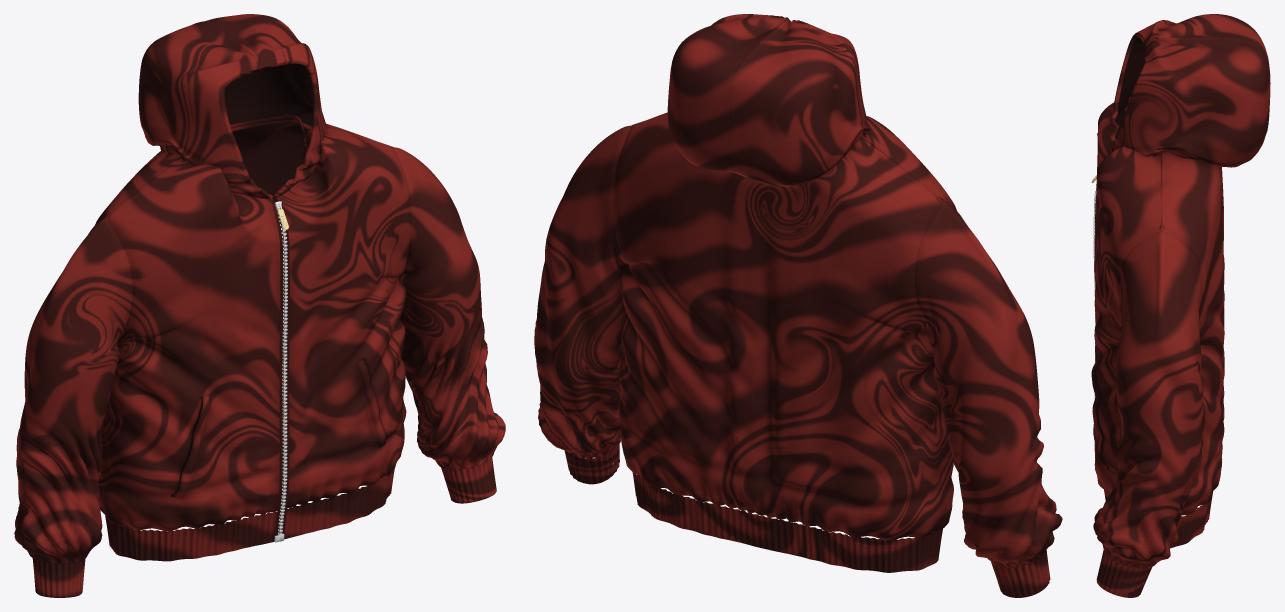
Rendered from ressac-v3-crimson-flow.glb.
The picture shows the model from 3 angles, left to right: view 1: azimuth 30°, elevation 25°; view 2: azimuth 150°, elevation 25°; view 3: azimuth 270°, elevation 25°; orthographic projection. The views are drawn at different scales.
Visible parts, largest first — view 1: Panel_Right, Panel_Left, Sleeve_Right, Sleeve_Left, Hood_Outer, Hem, Body_Back, Hood_Inner, Zip_Teeth_Right, Zip_Teeth_Left, Cuff_Right, Cuff_Left (+2 smaller); view 2: Body_Back, Sleeve_Right, Hood_Outer, Sleeve_Left, Hem, Panel_Right, Cuff_Right, Cuff_Left; view 3: Sleeve_Left, Hood_Outer, Panel_Left, Body_Back, Cuff_Left, Hood_Inner, Hem, Panel_Right, Pocket_Left.
Part boxes in pixels (x1,y1,x2,y2): Panel_Right: (103, 159, 280, 531); Panel_Left: (275, 123, 410, 508); Sleeve_Right: (14, 217, 132, 563); Sleeve_Left: (394, 147, 505, 470); Hood_Outer: (138, 14, 327, 198); Hem: (105, 469, 394, 561); Body_Back: (95, 114, 394, 515); Hood_Inner: (224, 63, 313, 186); Zip_Teeth_Right: (272, 201, 286, 542); Zip_Teeth_Left: (277, 199, 289, 541); Cuff_Right: (32, 558, 85, 597); Cuff_Left: (441, 457, 496, 503); Body_Back: (614, 113, 945, 540); Sleeve_Right: (915, 201, 1062, 567); Hood_Outer: (667, 14, 869, 186); Sleeve_Left: (534, 125, 630, 458); Hem: (632, 472, 942, 572); Panel_Right: (861, 116, 956, 529); Cuff_Right: (991, 550, 1050, 597); Cuff_Left: (564, 443, 619, 484); Sleeve_Left: (1093, 230, 1203, 568); Hood_Outer: (1110, 14, 1270, 167); Panel_Left: (1093, 146, 1164, 497); Body_Back: (1159, 152, 1224, 515); Cuff_Left: (1096, 550, 1152, 597); Hood_Inner: (1115, 37, 1175, 152); Hem: (1104, 489, 1213, 548); Panel_Right: (1096, 96, 1130, 186); Pocket_Left: (1091, 363, 1108, 468).
Size of the model in its own units: 0.8936 by 0.8774 by 0.3057.
Materials: 7 (1 with a texture image).
